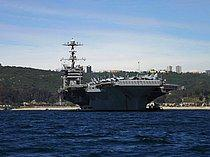MIL_Ship: (55, 36, 180, 111)
